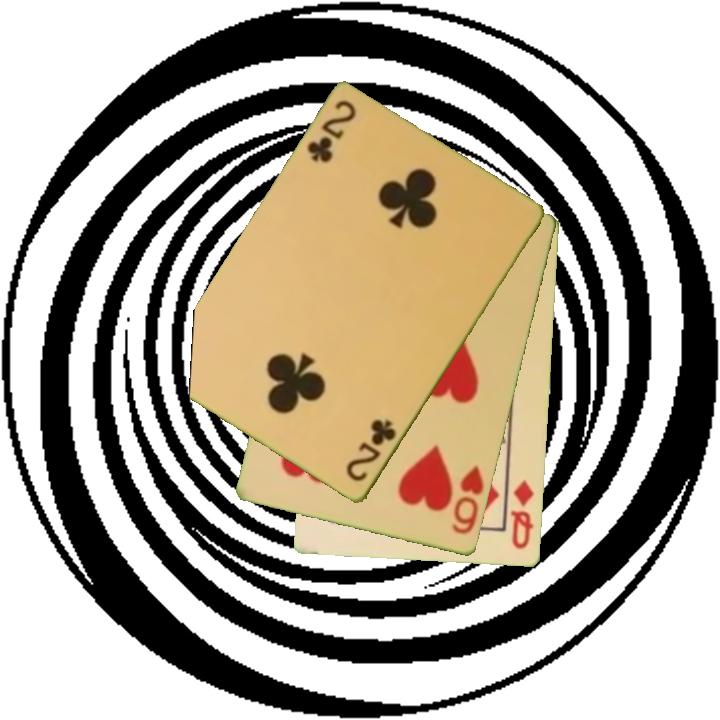2c: (342, 416, 400, 486), (303, 97, 359, 167)
6h: (448, 462, 488, 538)
Qd: (508, 477, 537, 553)
